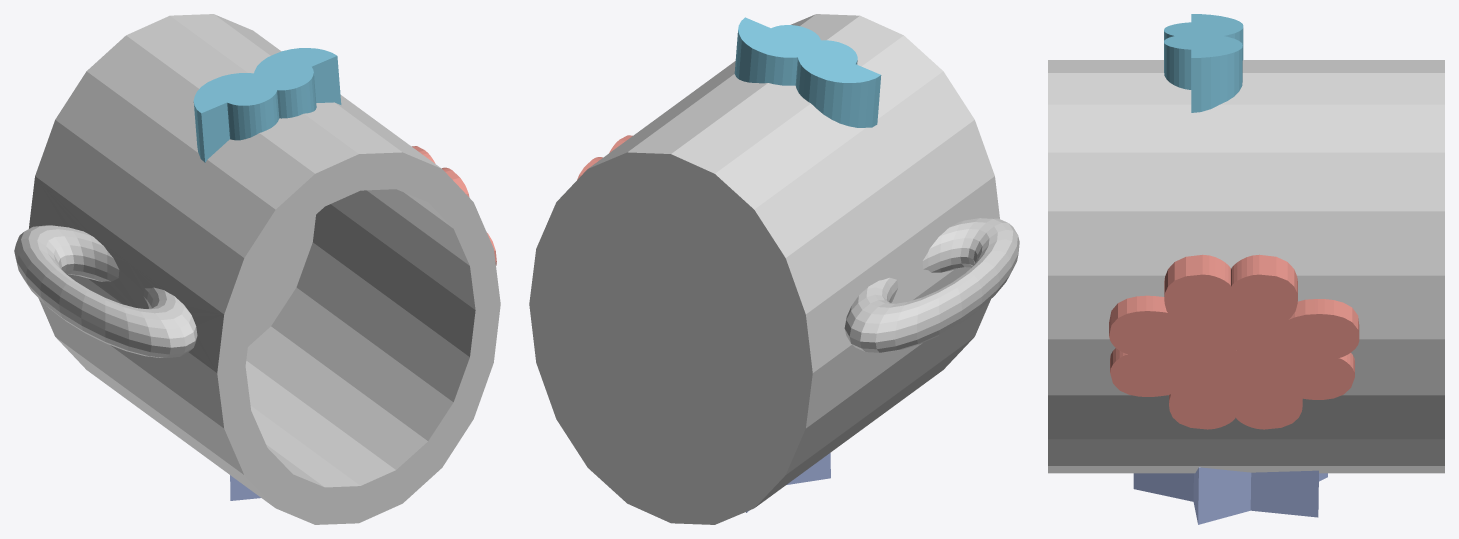
The model's file is tinker.obj.
3 renders of one model, left to right at view 1: azimuth 30°, elevation 25°; view 2: azimuth 150°, elevation 25°; view 3: azimuth 270°, elevation 25°, orthographic. The views are drawn at different scales.
Visible parts, largest first — view 1: group_0_16448250, group_0_8768998; view 2: group_0_16448250, group_0_8768998, group_0_11452141; view 3: group_0_16448250, group_0_15308428, group_0_11452141, group_0_8768998.
Boxes of the visible parts, left/top/right/bottom form: group_0_16448250: left=14, top=14, right=500, bottom=524; group_0_8768998: left=193, top=48, right=341, bottom=162; group_0_16448250: left=529, top=14, right=1019, bottom=524; group_0_8768998: left=734, top=17, right=881, bottom=127; group_0_11452141: left=746, top=453, right=830, bottom=512; group_0_16448250: left=1048, top=60, right=1444, bottom=473; group_0_15308428: left=1109, top=254, right=1359, bottom=429; group_0_11452141: left=1133, top=467, right=1327, bottom=524; group_0_8768998: left=1164, top=14, right=1243, bottom=112.
Size of the model in its own units: 75 by 82 by 65.
